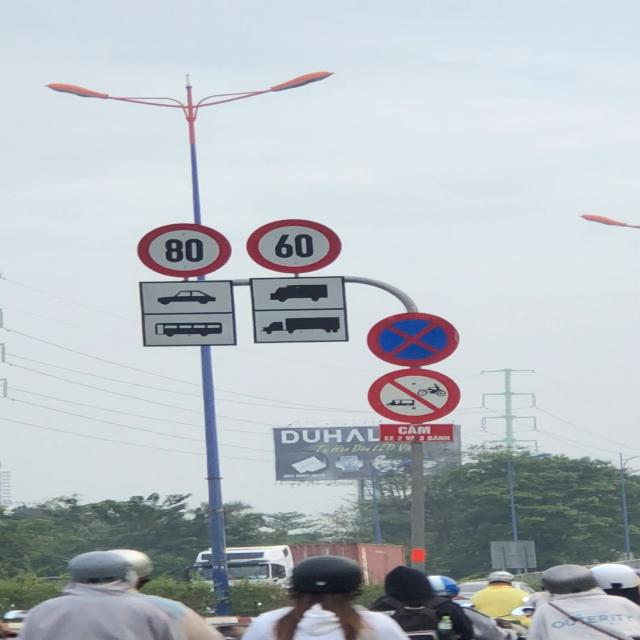Bien bao cam dung xe va do xe: (366, 312, 462, 368)
Bien bao toc do toi da cho phep: (244, 218, 342, 274), (137, 223, 230, 278)
